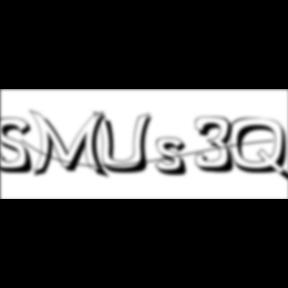3: (195, 116, 241, 176)
M: (29, 108, 113, 181)
S: (1, 117, 40, 176)
U: (94, 110, 158, 176)
s: (155, 137, 194, 179)
